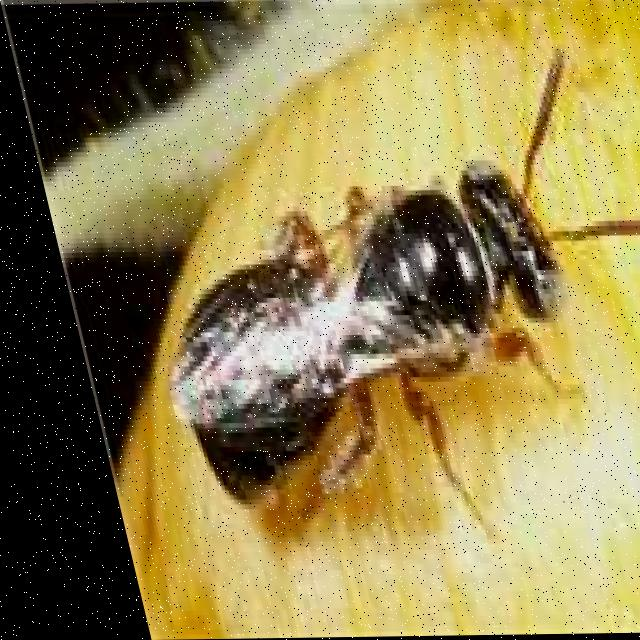Braunsapis: (104, 160, 640, 542)
